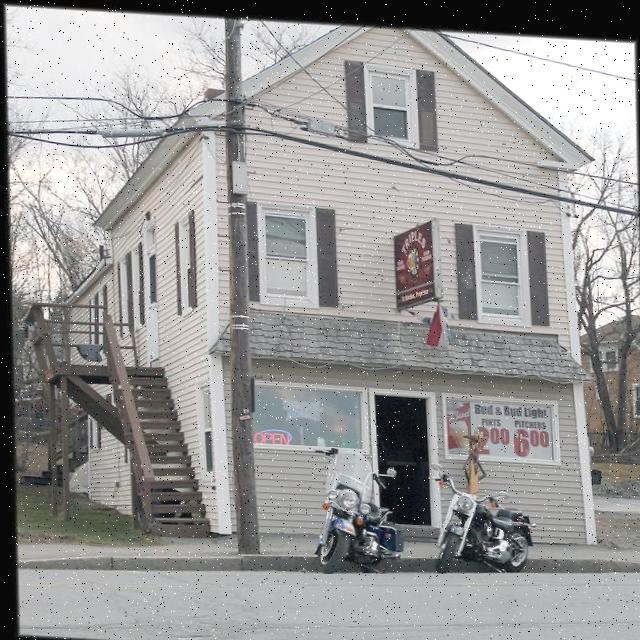motorcycle: (307, 438, 405, 574), (426, 467, 541, 579)
